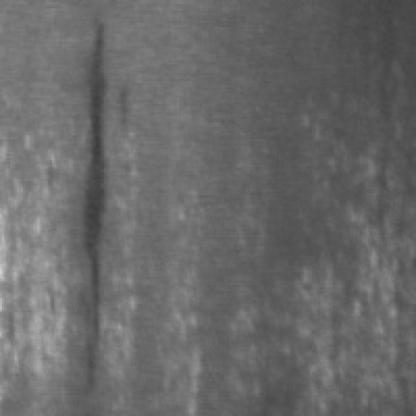inclusion: (67, 17, 127, 393)
